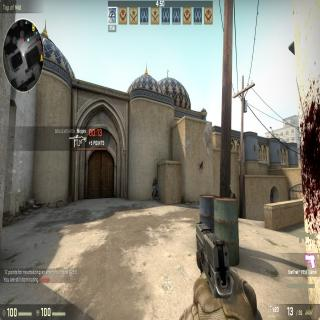T-Body: (152, 175, 158, 197)
T-Head: (154, 175, 156, 179)
